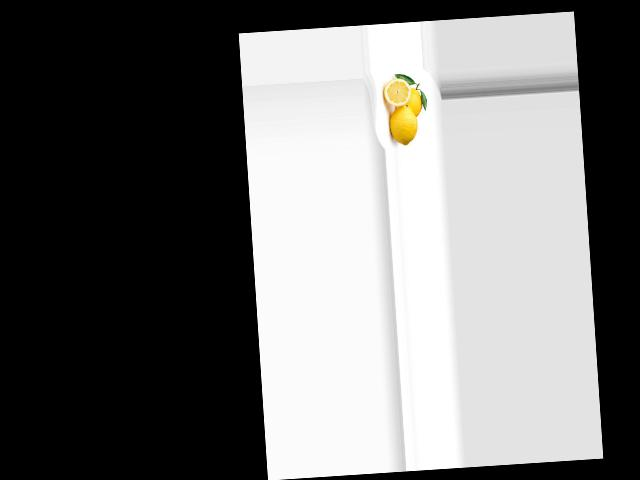lemon: (396, 83, 424, 120)
